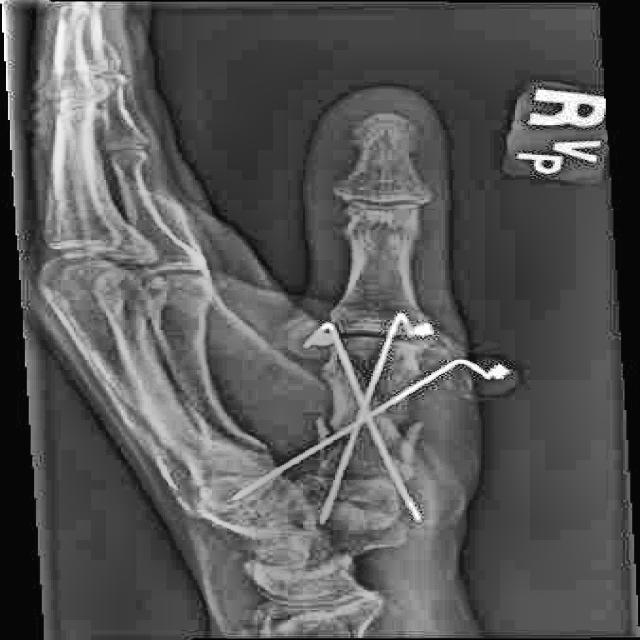fingers positive: (301, 397, 465, 520)
